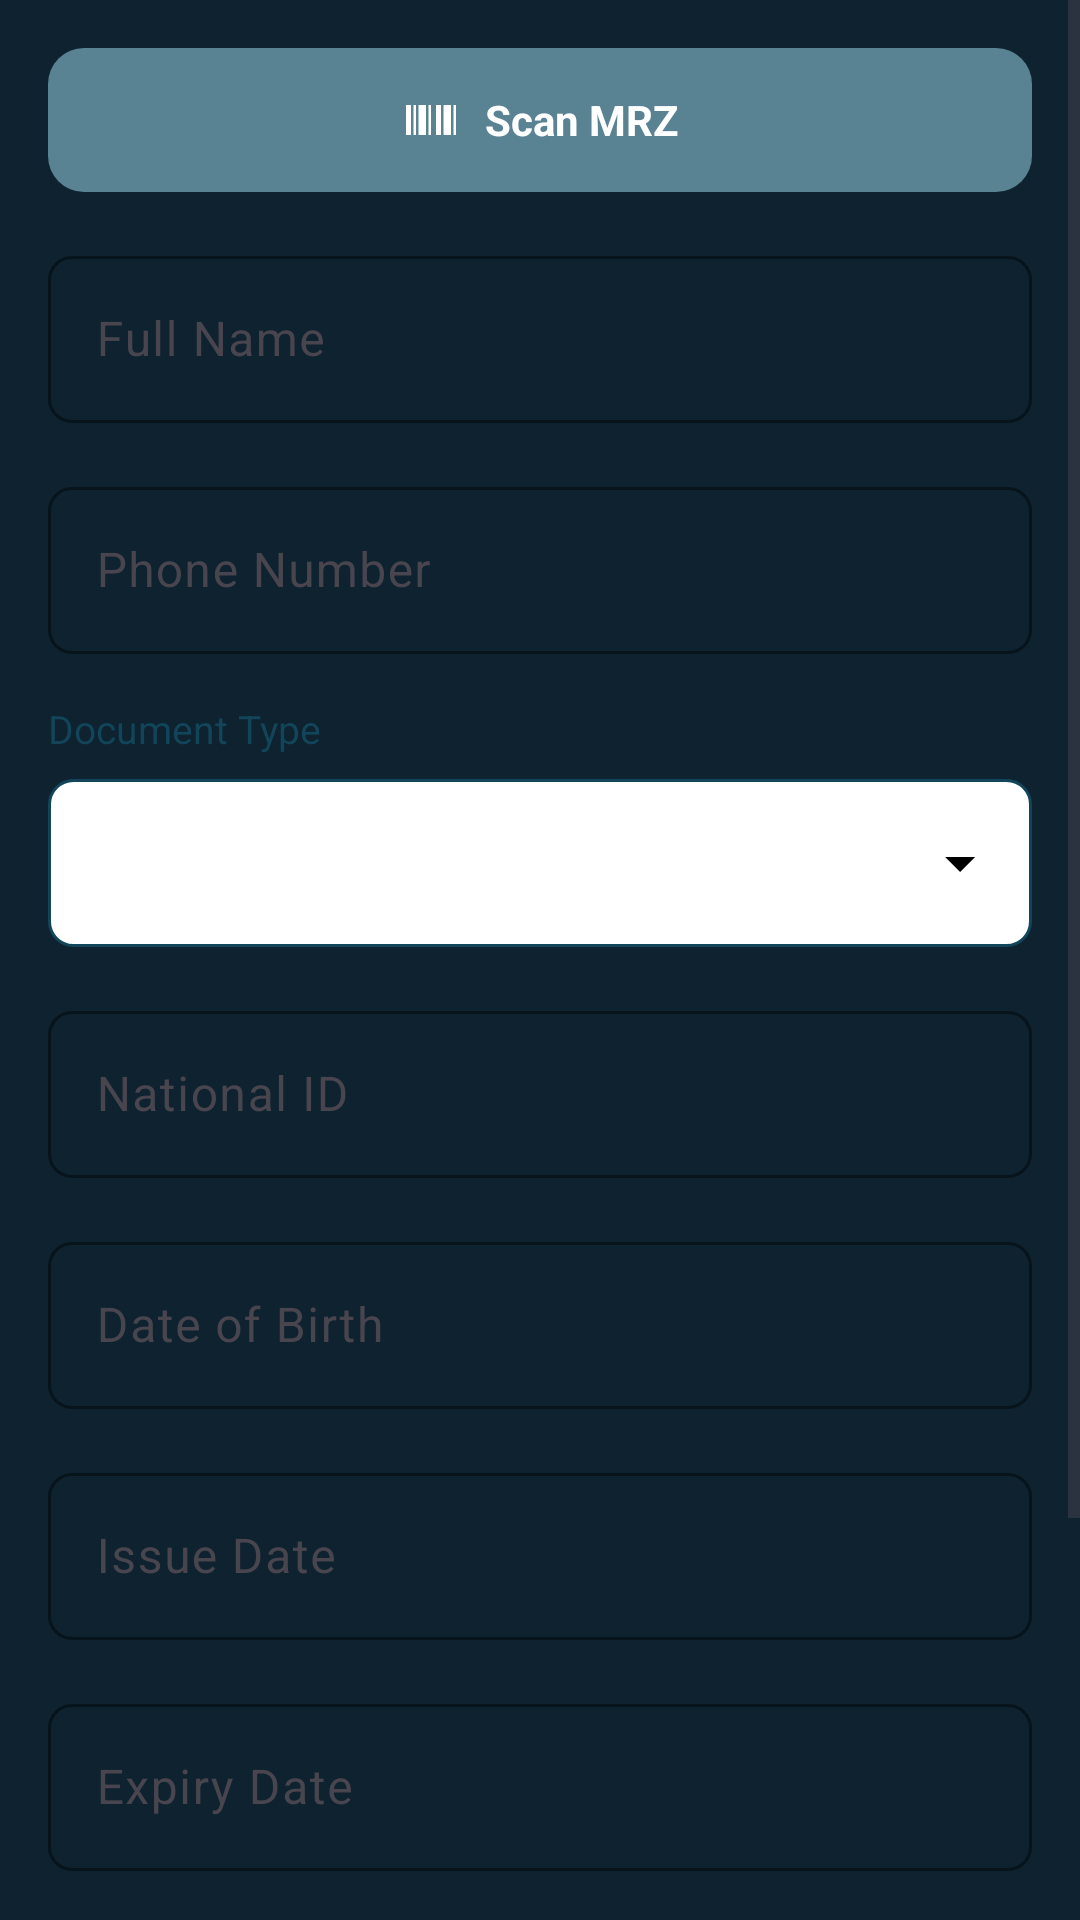

Icons on this 1080*1920 Android screen, each with its box as [x1=x1, y1=y1, x2=x2, y2=y2]:
barcode: [x1=406, y1=105, x2=456, y2=135]
